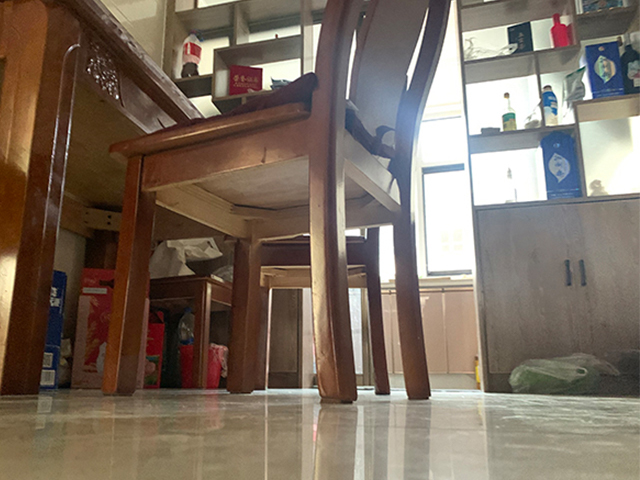cabinet: (472, 196, 640, 395), (381, 278, 479, 389)
stool: (98, 1, 452, 404)
